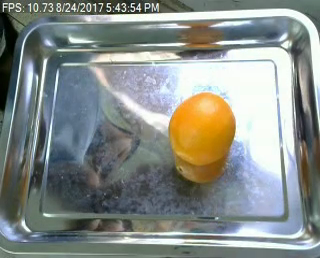Orange: (168, 92, 235, 165)
